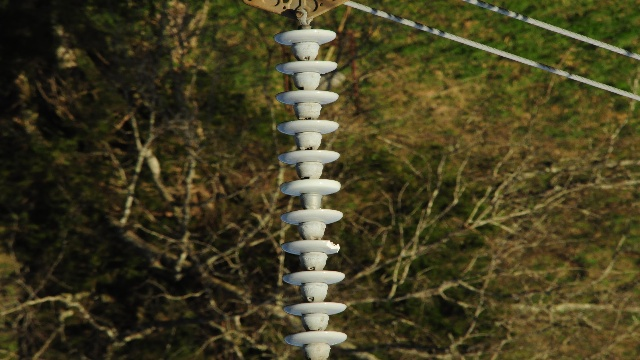broken_local: (324, 238, 341, 254)
insulator_unspecified: (272, 28, 350, 346)
